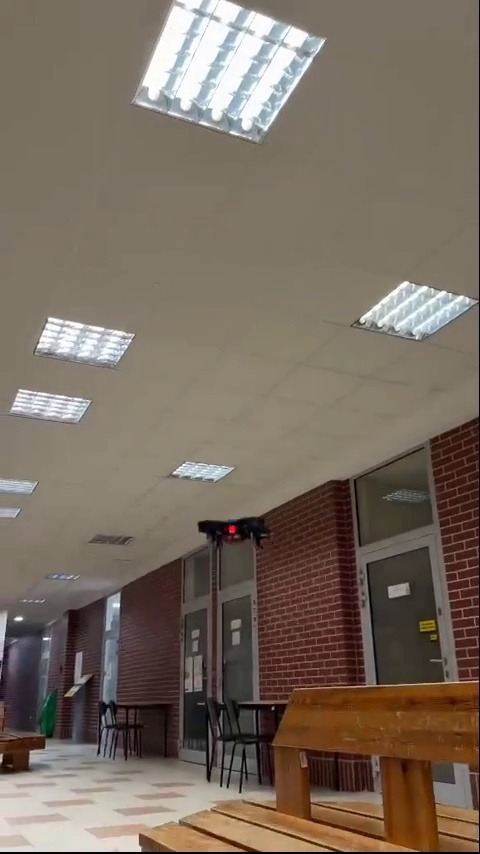drone: (197, 517, 274, 548)
